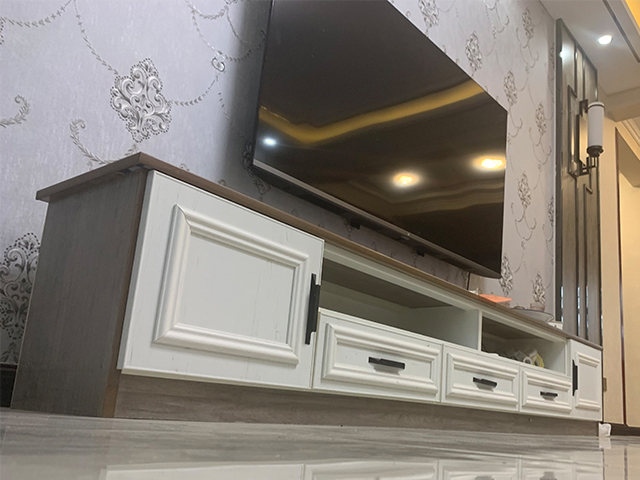cabinet: (8, 150, 603, 437)
